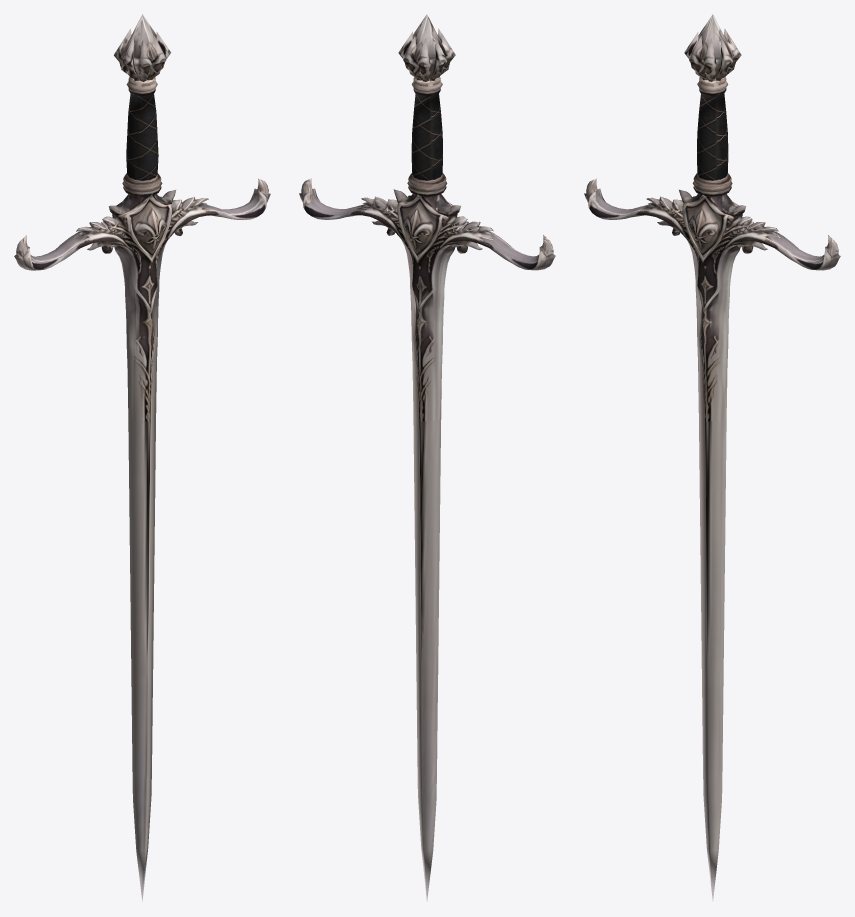
The model's file is l2-slim-sword+3d+model.glb.
3 views of the same model, side by side, from view 1: azimuth 30°, elevation 25°; view 2: azimuth 150°, elevation 25°; view 3: azimuth 330°, elevation 25° (orthographic).
Visible parts, largest first — view 1: tripo_node_d04f6a5a-8214-4181-ad91-192ca9dca7db; view 2: tripo_node_d04f6a5a-8214-4181-ad91-192ca9dca7db; view 3: tripo_node_d04f6a5a-8214-4181-ad91-192ca9dca7db.
Part boxes in pixels (x1,y1,x2,y2): tripo_node_d04f6a5a-8214-4181-ad91-192ca9dca7db: (14,14,270,902); tripo_node_d04f6a5a-8214-4181-ad91-192ca9dca7db: (299,14,555,901); tripo_node_d04f6a5a-8214-4181-ad91-192ca9dca7db: (584,14,840,901).
Size of the model in its own units: 0.3022 by 0.9995 by 0.063.
1 material, 1 textured.
